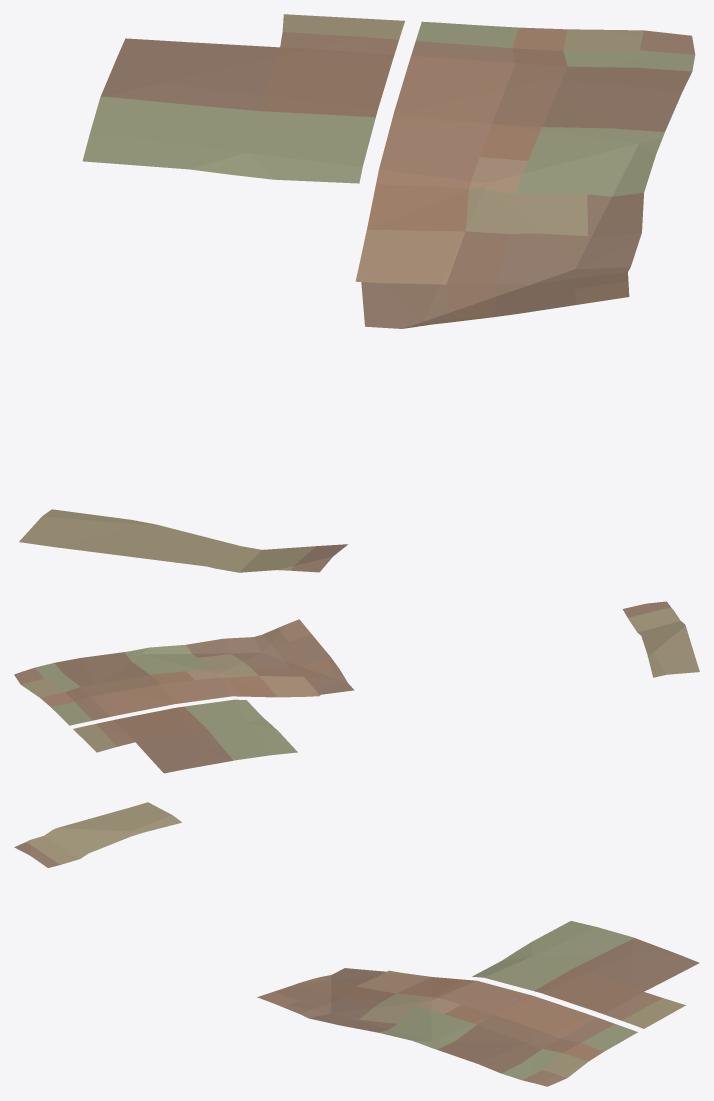
Rendered from farm_-9_3_soil.glb.
The picture shows the model from 3 angles, top to bottom: view 1: azimuth 30°, elevation 25°; view 2: azimuth 150°, elevation 25°; view 3: azimuth 270°, elevation 25°; orthographic projection. The views are drawn at different scales.
Parts seen in each view (by area): view 1: geometry_0; view 2: geometry_0; view 3: geometry_0.
Boxes of the visible parts, <box> form: geometry_0: <box>19,14,695,572</box>; geometry_0: <box>14,601,699,773</box>; geometry_0: <box>14,802,699,1086</box>.
Size of the model in its own units: 538 by 24.19 by 547.
